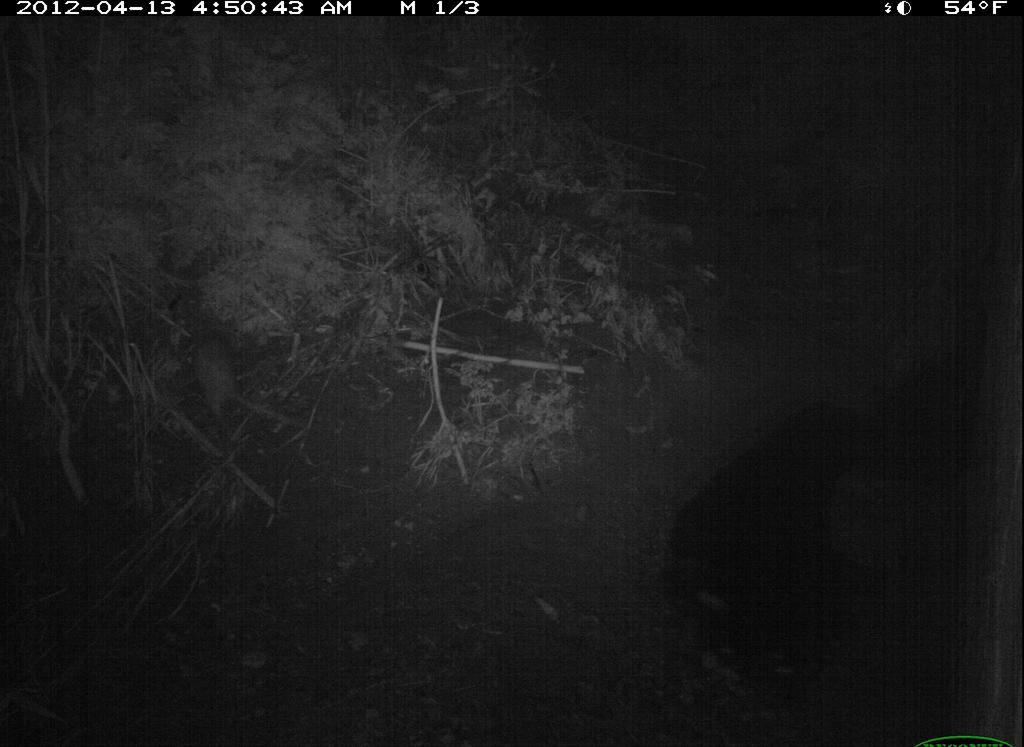opossum: (171, 321, 294, 452)
